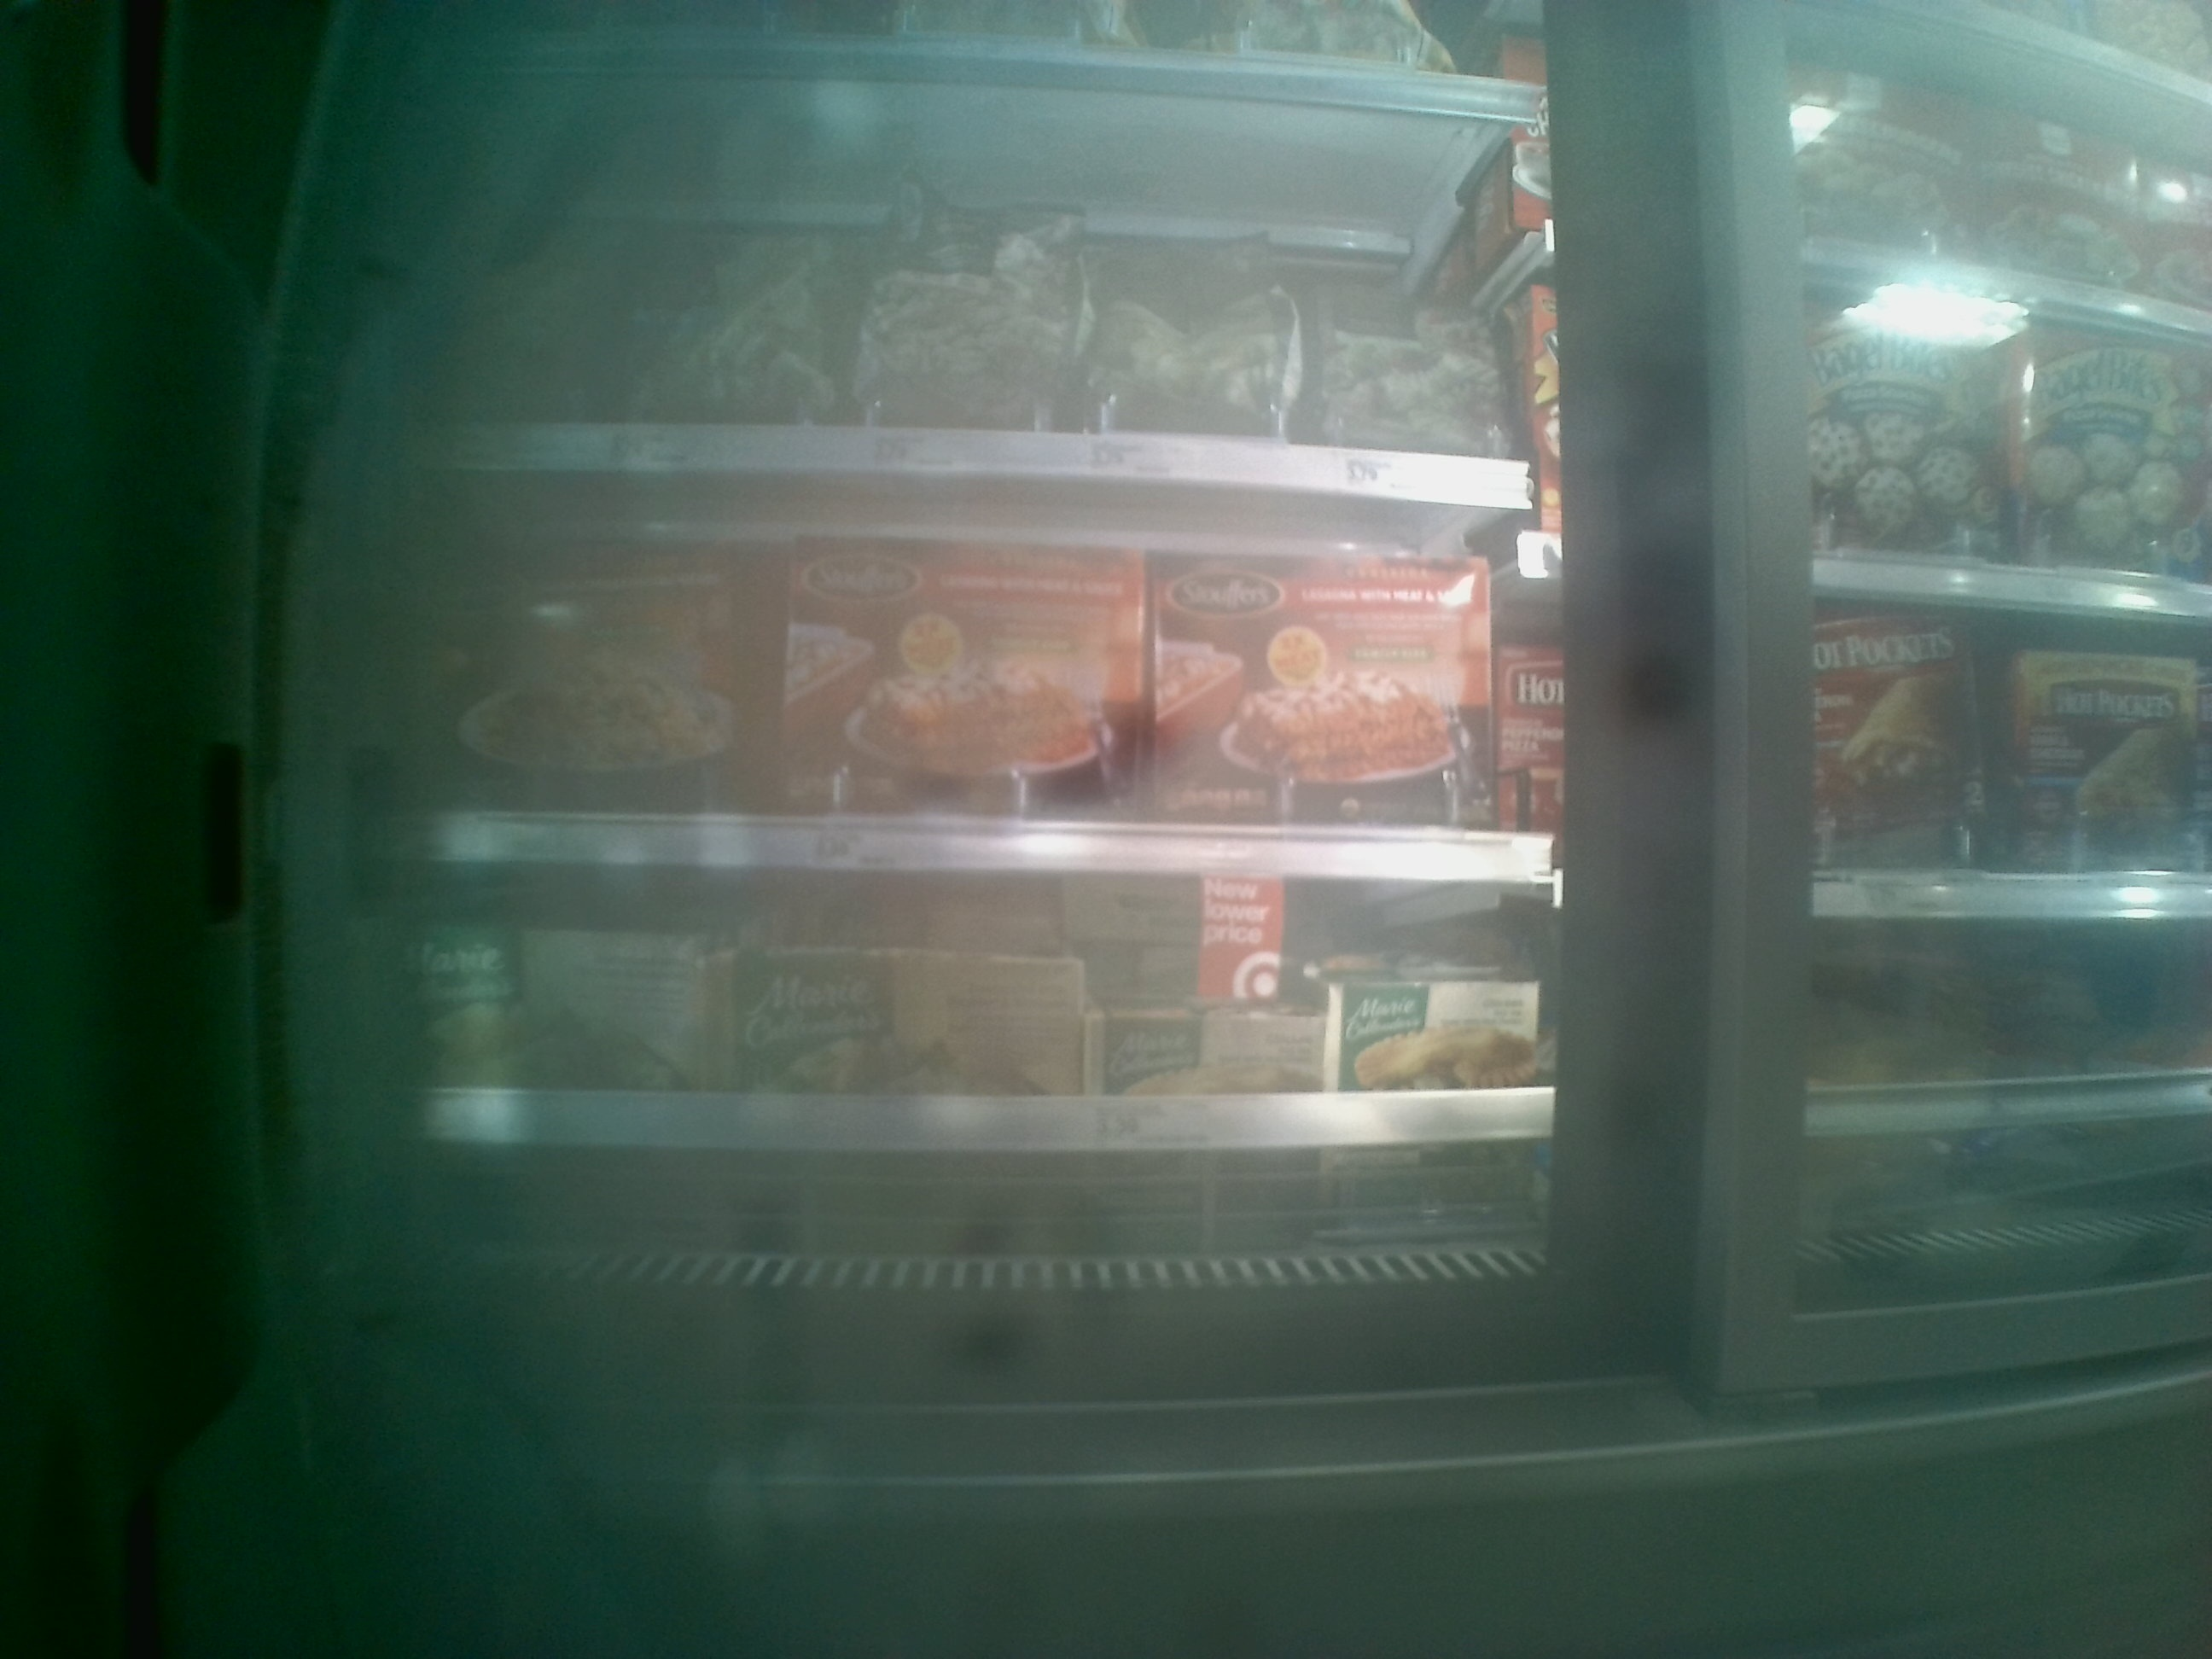shelf: (383, 852, 1571, 1265)
